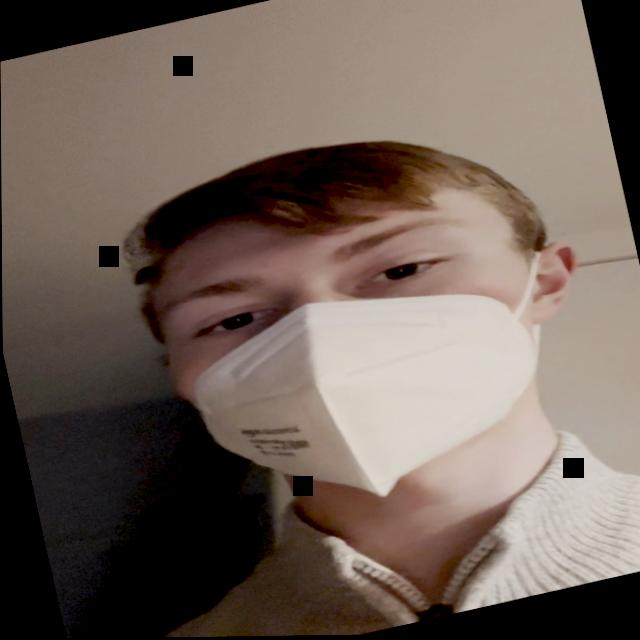Mask: (133, 152, 566, 538)
